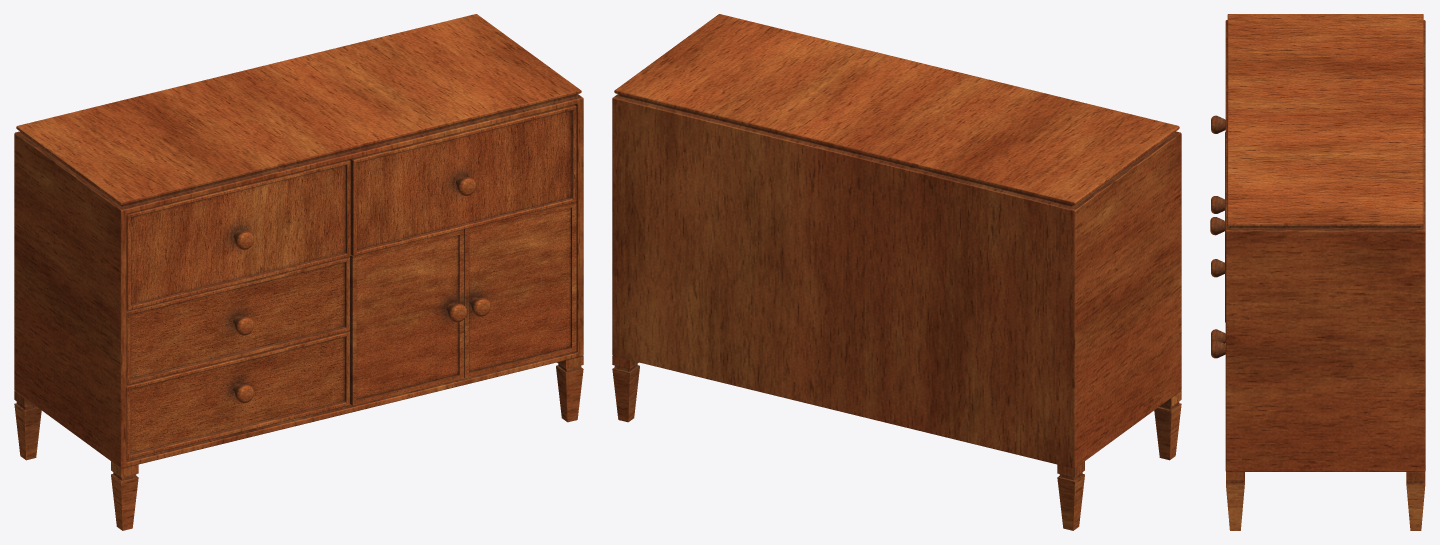
Rendered from shelf01_new.fbx.
3 views of the same model, side by side, from view 1: azimuth 30°, elevation 25°; view 2: azimuth 150°, elevation 25°; view 3: azimuth 270°, elevation 25° (orthographic). The views are drawn at different scales.
Visible parts, largest first — view 1: cabinet_outside_GEO.002, bolt_GEO.033, bolt_GEO.004, knob_GEO_01.006, Cube.002, rail_drawer_GEO.010, bolt_GEO.005; view 2: cabinet_outside_GEO.002; view 3: cabinet_outside_GEO.002, bolt_GEO.033.
Part boxes in pixels (x1,y1,x2,y2): cabinet_outside_GEO.002: (14, 14, 583, 530); bolt_GEO.033: (349, 105, 576, 255); bolt_GEO.004: (126, 160, 350, 310); knob_GEO_01.006: (350, 229, 466, 405); Cube.002: (464, 202, 576, 378); rail_drawer_GEO.010: (126, 331, 349, 459); bolt_GEO.005: (126, 257, 349, 384); cabinet_outside_GEO.002: (612, 14, 1181, 530); cabinet_outside_GEO.002: (1225, 14, 1425, 530); bolt_GEO.033: (1210, 132, 1225, 322).
Bounding box in the file's own units: 150 × 102 × 64.59.
Materials: 11 (10 with a texture image).
